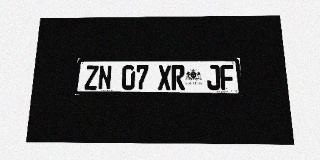0: (121, 65, 135, 90)
7: (135, 65, 148, 90)
F: (220, 65, 235, 90)
J: (206, 65, 221, 90)
N: (98, 65, 112, 90)
R: (171, 65, 185, 90)
X: (158, 65, 171, 90)
Z: (84, 65, 99, 90)
